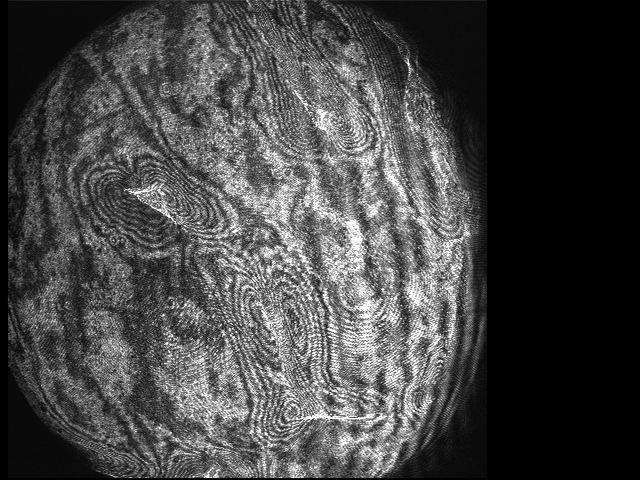plume: (84, 152, 231, 252)
